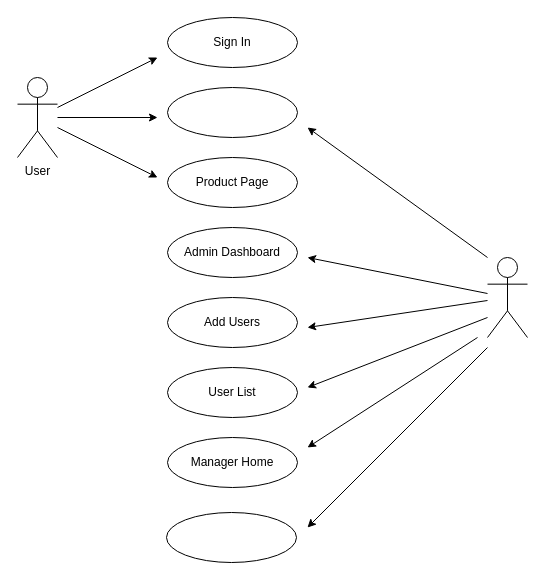
The diagram is 545 pixels wide and 580 high, and some of its shapes have lost their labels. Each missing label, with the box of its shape:
Admin: (486, 256, 528, 338)
Check Items: (166, 512, 296, 562)
Login In: (166, 86, 298, 138)
